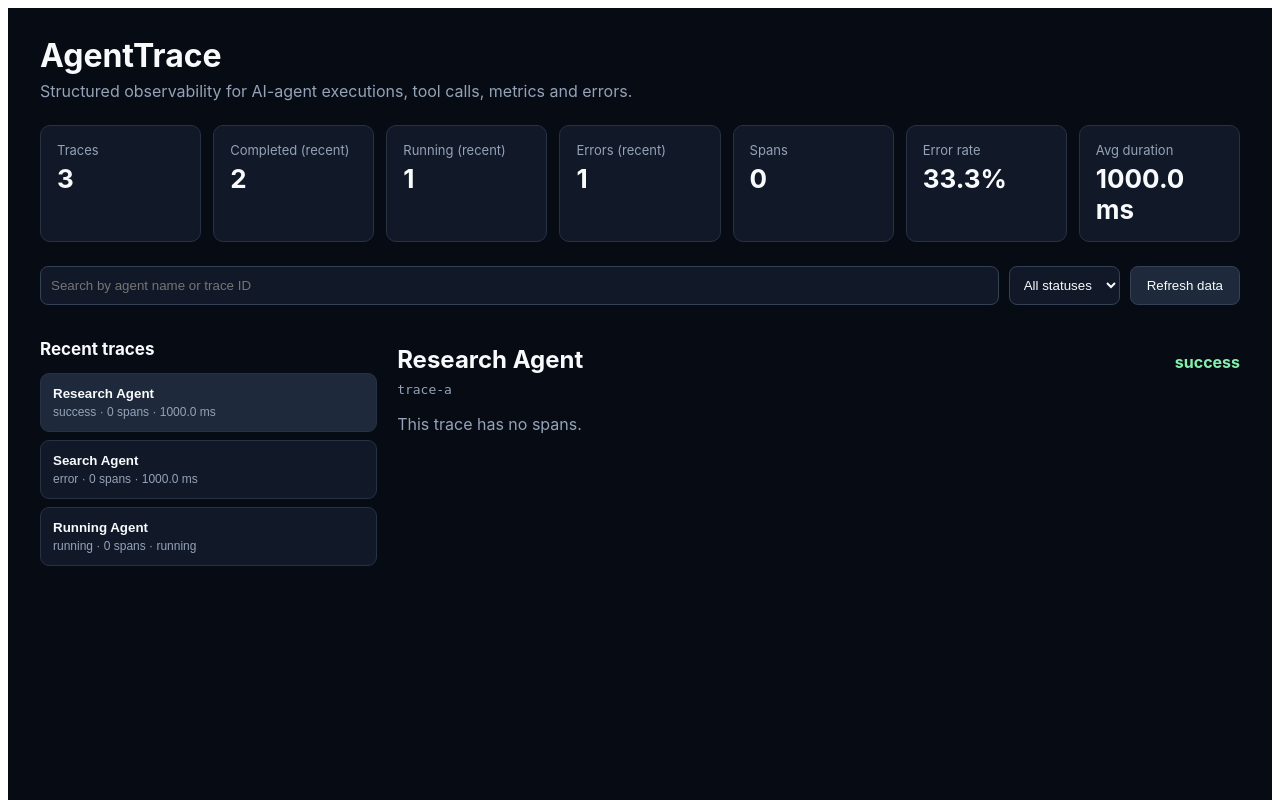
Scenario: DashboardPage interactions › selects a different trace after a click
This screenshot has width=1280, height=800.
Click the button "Search Agent error · 0 spans · 1000.0 ms" at (96, 461), box [40,440,377,499]
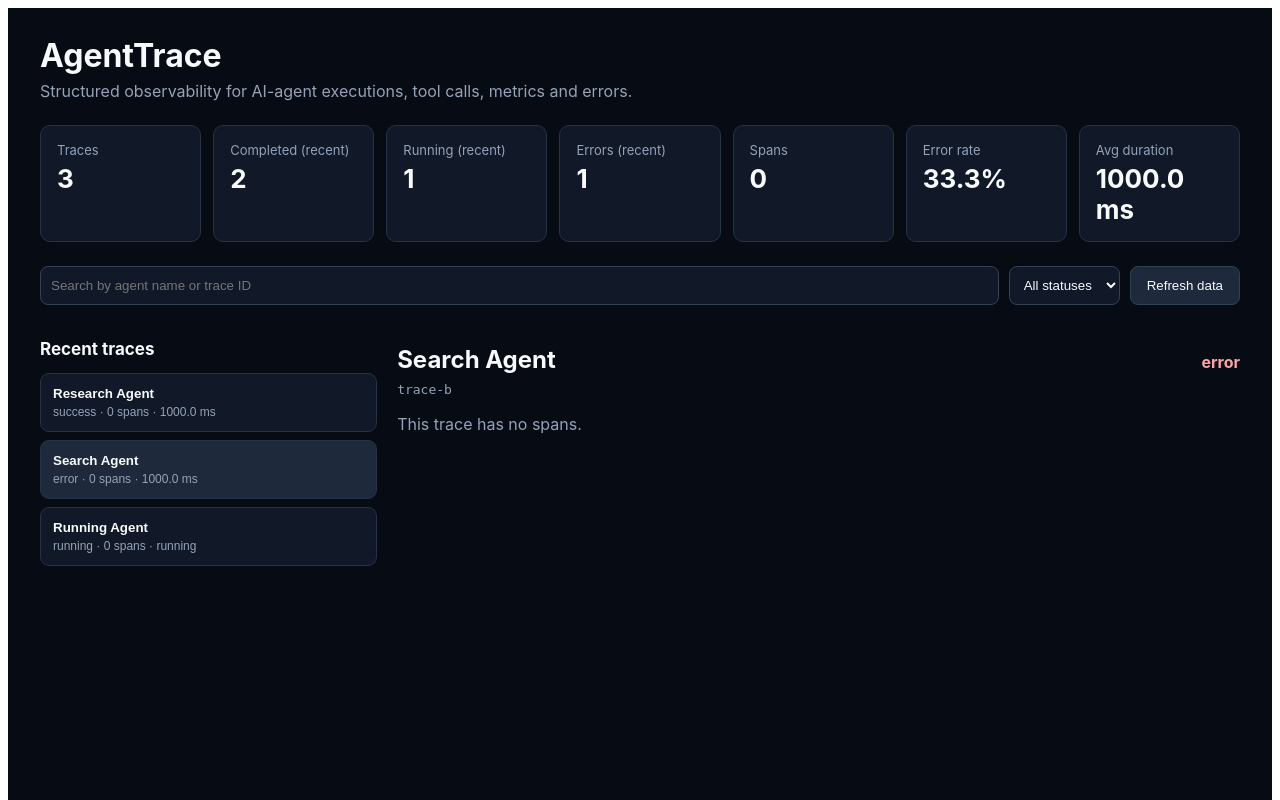
Expected: the text "trace-b" is shown, [397,382,452,397]
